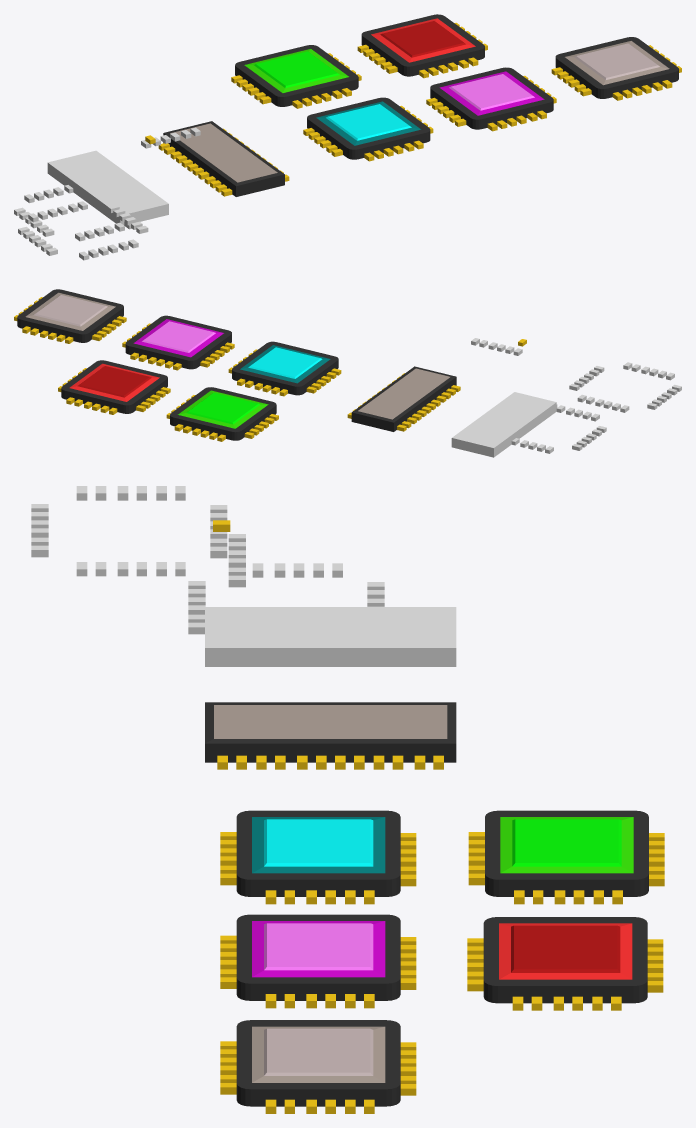
Rendered from BF-assets.fbx.
3 views of the same model, one above another, from view 1: azimuth 30°, elevation 25°; view 2: azimuth 150°, elevation 25°; view 3: azimuth 270°, elevation 25° (orthographic). The views are drawn at different scales.
Visible parts, largest first — view 1: BasicChipS, BasicChipHP, BasicChipHB, BasicChipD, BasicChipC, LongChip, Cube.001, Cube.005, Cube.006, Cube.004; view 2: BasicChipHP, BasicChipHB, BasicChipC, BasicChipD, BasicChipS, LongChip, Cube.001, Cube.005, Cube.006, Cube.004; view 3: BasicChipHP, BasicChipS, BasicChipHB, BasicChipC, BasicChipD, LongChip, Cube.001, Cube.005, Cube.006, Cube.004.
Boxes of the visible parts, x1,y1,x2,y2 form: BasicChipS: (426, 67, 556, 131); BasicChipHP: (303, 97, 433, 161); BasicChipHB: (231, 45, 361, 108); BasicChipD: (551, 37, 681, 100); BasicChipC: (357, 14, 487, 78); LongChip: (158, 121, 289, 196); Cube.001: (47, 150, 168, 225); Cube.005: (18, 201, 148, 260); Cube.006: (14, 185, 131, 241); Cube.004: (141, 127, 200, 148); BasicChipHP: (228, 341, 341, 396); BasicChipHB: (166, 387, 278, 441); BasicChipC: (58, 360, 170, 414); BasicChipD: (14, 289, 126, 343); BasicChipS: (122, 315, 234, 370); LongChip: (347, 366, 460, 431); Cube.001: (451, 392, 556, 457); Cube.005: (569, 362, 681, 412); Cube.006: (511, 404, 606, 453); Cube.004: (471, 338, 522, 355); BasicChipHP: (220, 810, 416, 904); BasicChipS: (220, 914, 416, 1008); BasicChipHB: (468, 810, 664, 904); BasicChipC: (467, 917, 663, 1010); BasicChipD: (220, 1020, 416, 1113); LongChip: (205, 702, 456, 769); Cube.001: (205, 607, 456, 666); Cube.005: (31, 486, 227, 576); Cube.006: (188, 563, 384, 634); Cube.004: (228, 534, 245, 587).
Bounding box in the file's own units: 1674 × 180 × 774.
